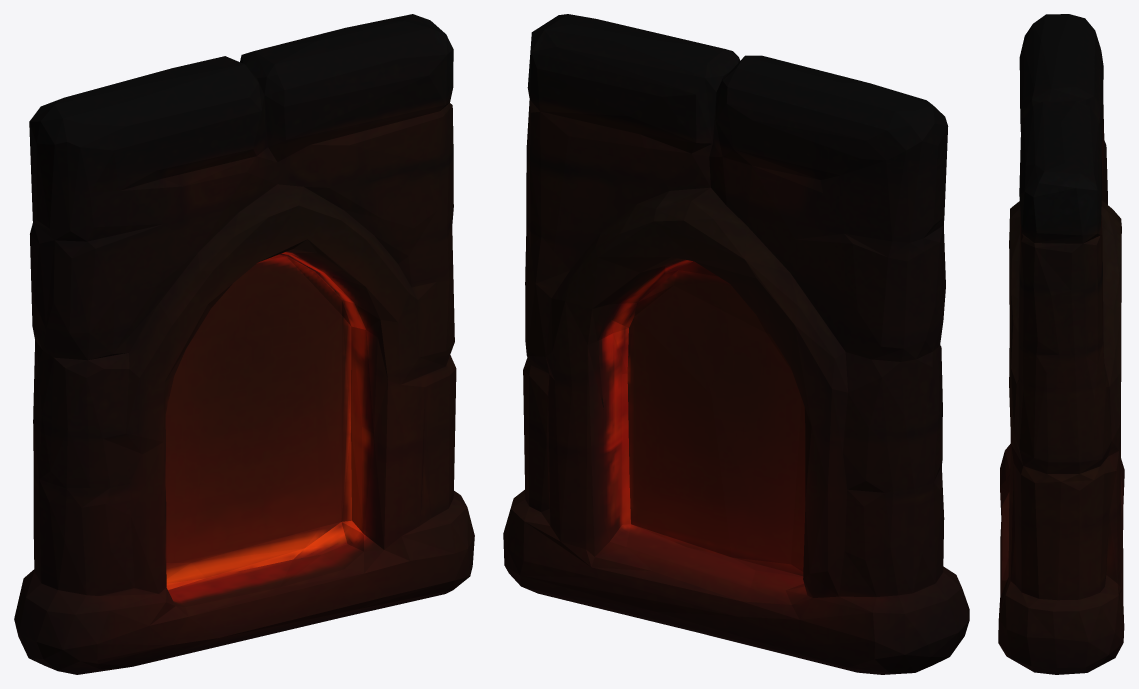
The picture shows the model from 3 angles, left to right: view 1: azimuth 30°, elevation 25°; view 2: azimuth 150°, elevation 25°; view 3: azimuth 270°, elevation 25°; orthographic projection. The views are drawn at different scales.
Visible parts, largest first — view 1: geometry_0.031_Baked; view 2: geometry_0.031_Baked; view 3: geometry_0.031_Baked.
Part boxes in pixels (bbox=[...]): geometry_0.031_Baked: bbox=[14, 14, 474, 674]; geometry_0.031_Baked: bbox=[503, 14, 969, 674]; geometry_0.031_Baked: bbox=[998, 14, 1124, 674].
Size of the model in its own units: 20.52 by 25.27 by 5.75.
